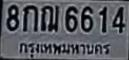1: (99, 6, 106, 32)
4: (112, 6, 124, 32)
6: (80, 5, 92, 31), (65, 5, 77, 31)
8: (6, 4, 18, 30)
A01: (22, 4, 37, 31)
A12: (40, 4, 59, 31)
BKK: (18, 40, 110, 60)
